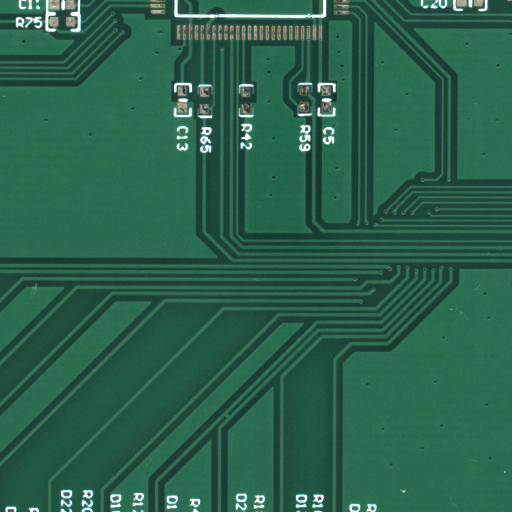Short: (225, 416, 233, 423)
